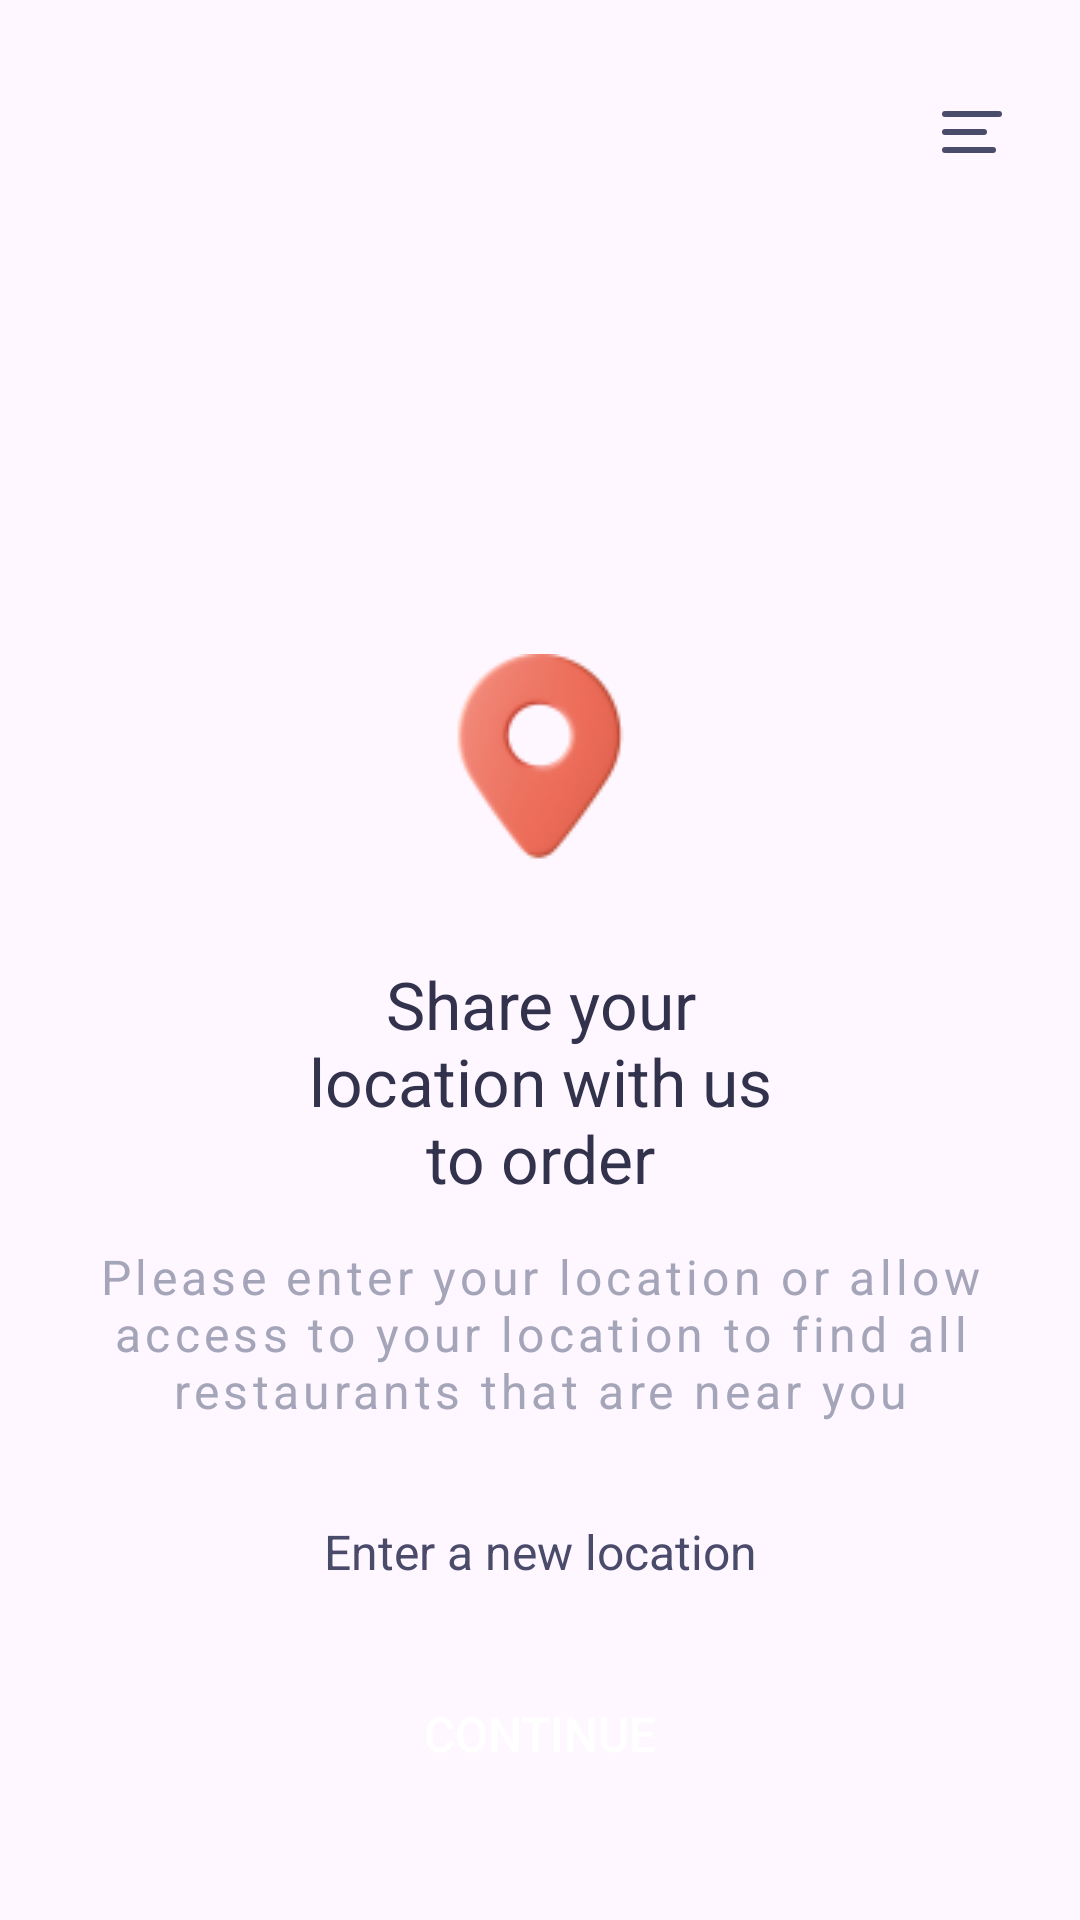

Icon click points for this 1080x1920 phone screenshot, format (x,y):
toggle: (972,132)
